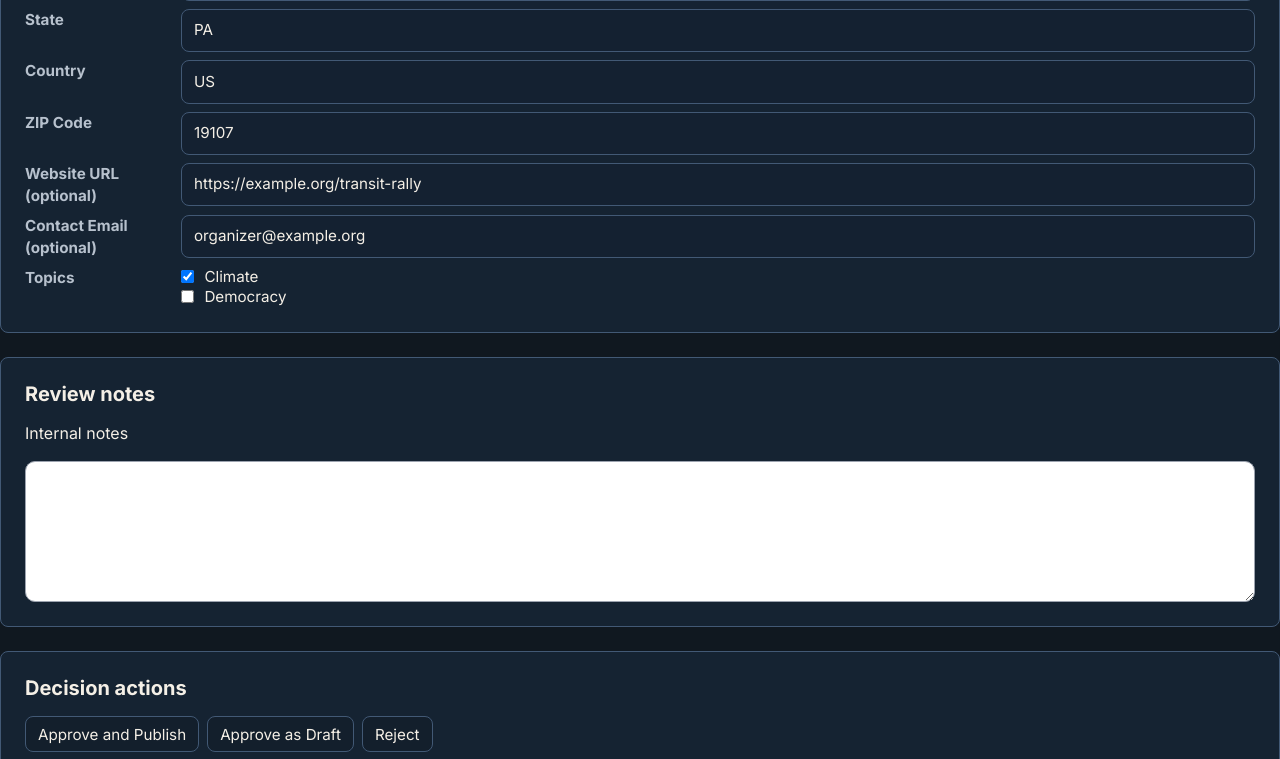
Test: SubmissionReviewPageContent › maps event API validation errors to inline review fields
The image size is (1280, 759).
(page scrolled)
Click the button "Approve and Publish": [112, 734] box 25,716 -> 199,752
(page scrolled)
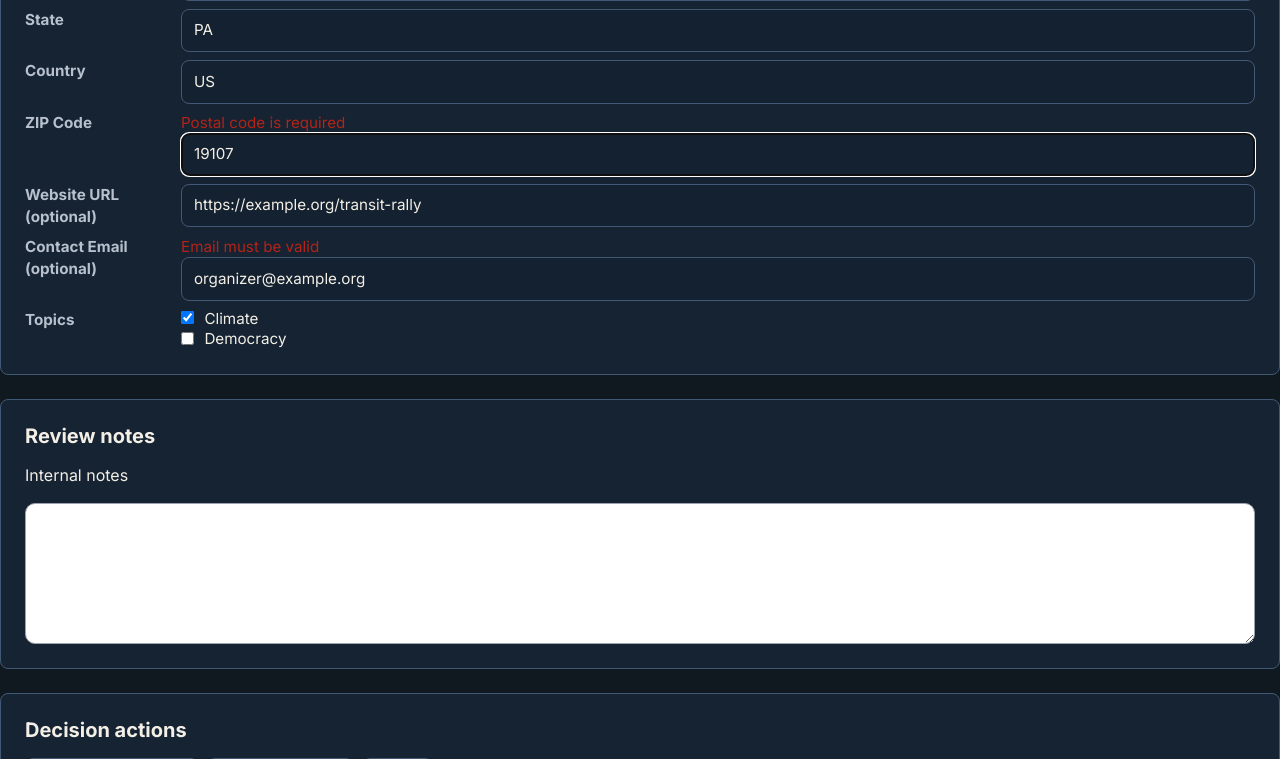
Expected: the text "Postal code is required" is shown, 181,112 -> 345,132
Expected: the text "Email must be valid" is shown, 181,237 -> 319,256
